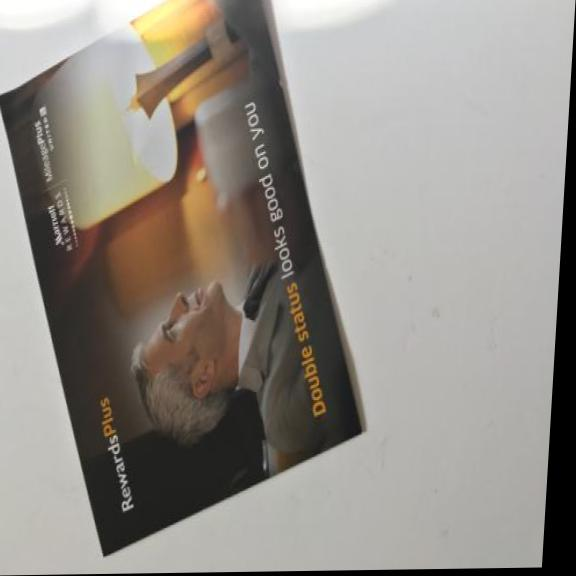Kertas: (0, 0, 393, 561)
